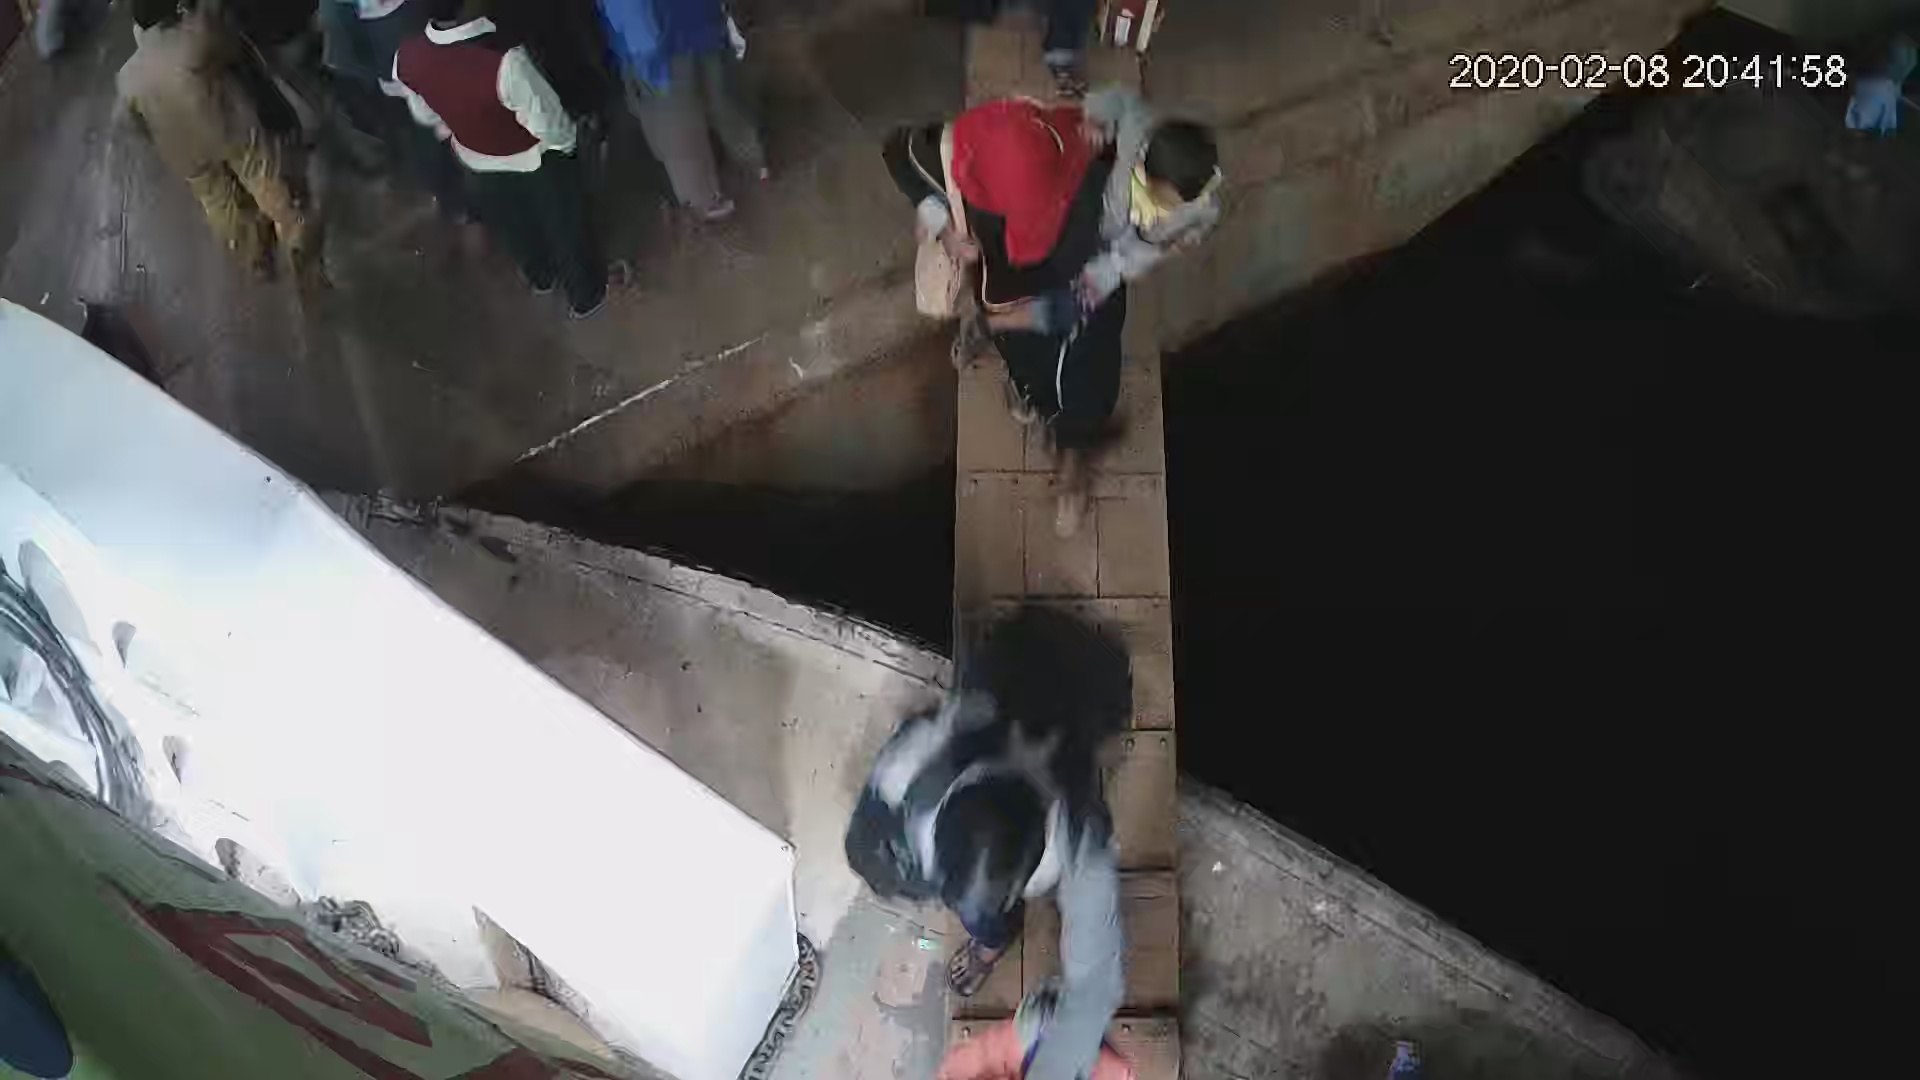person: (885, 84, 1138, 526), (844, 668, 1148, 1009), (388, 7, 633, 322), (104, 9, 317, 286)
